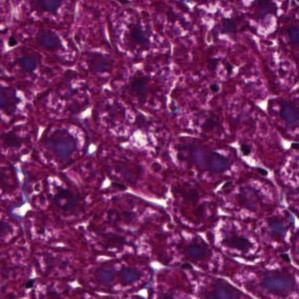inflammation: (36, 118, 96, 164), (212, 217, 267, 267)
